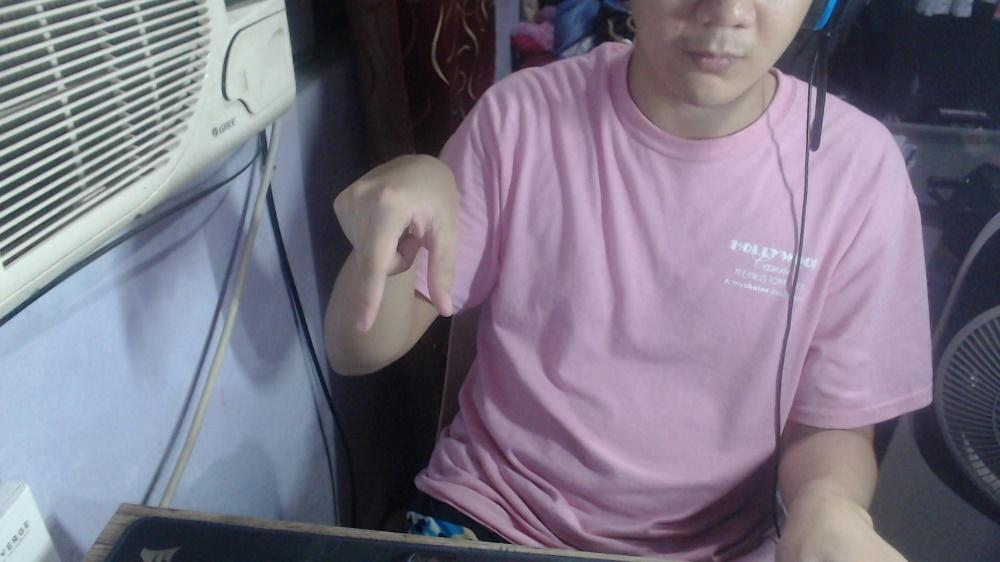q: (331, 150, 455, 334)
